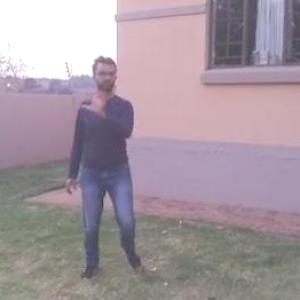follow_hand: (78, 82, 109, 114)
